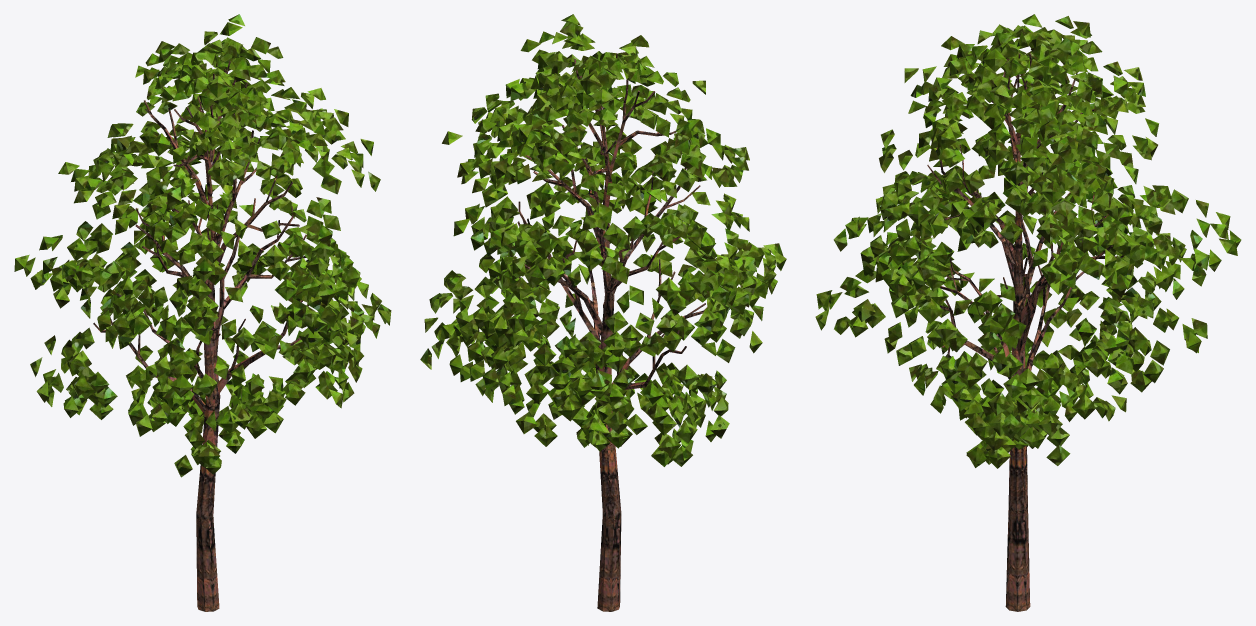
File: vector-tree-1.glb
The picture shows the model from 3 angles, left to right: view 1: azimuth 30°, elevation 25°; view 2: azimuth 150°, elevation 25°; view 3: azimuth 270°, elevation 25°; orthographic projection. The views are drawn at different scales.
Visible parts, largest first — view 1: 3DGeom~203_Defintion, 3DGeom~202_Defintion; view 2: 3DGeom~203_Defintion, 3DGeom~202_Defintion; view 3: 3DGeom~203_Defintion, 3DGeom~202_Defintion.
Part boxes in pixels (x1,y1,x2,y2): 3DGeom~203_Defintion: (14, 14, 391, 477); 3DGeom~202_Defintion: (93, 61, 337, 611); 3DGeom~203_Defintion: (420, 14, 786, 466); 3DGeom~202_Defintion: (517, 53, 707, 611); 3DGeom~203_Defintion: (815, 14, 1241, 468); 3DGeom~202_Defintion: (927, 52, 1123, 611).
Bounding box in the file's own units: 5.54 × 8.77 × 5.59.
Materials: 2 (2 with a texture image).
